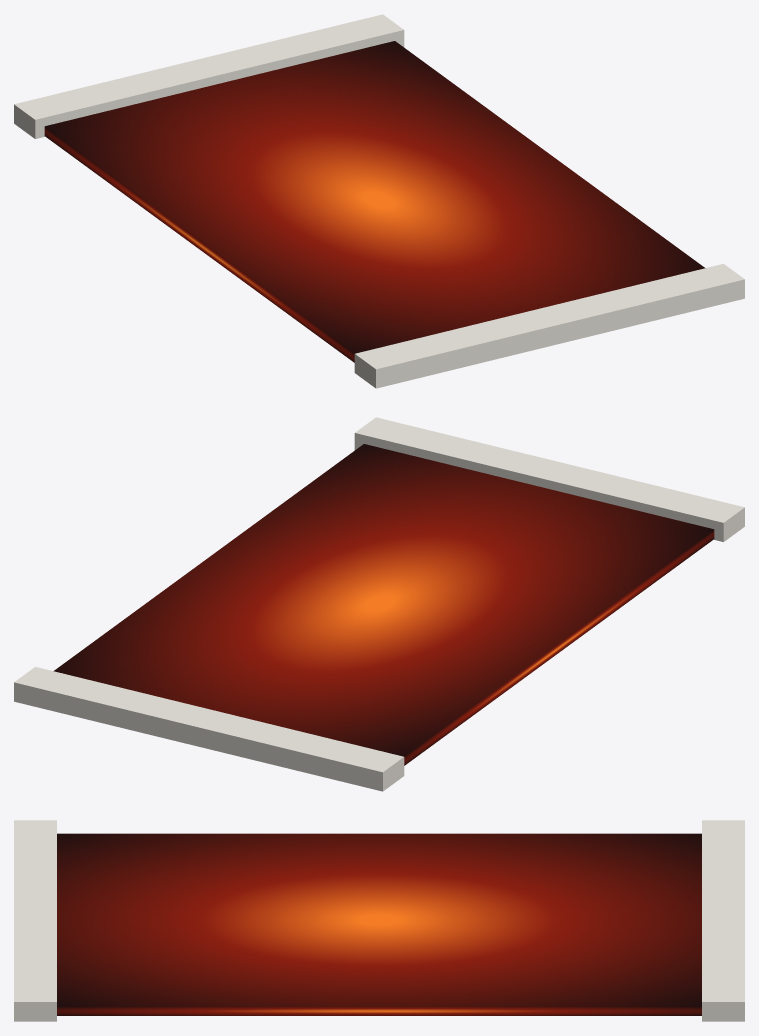
File: gap.glb
The picture shows the model from 3 angles, top to bottom: view 1: azimuth 30°, elevation 25°; view 2: azimuth 150°, elevation 25°; view 3: azimuth 270°, elevation 25°; orthographic projection.
Visible parts, largest first — view 1: stairway gap; view 2: stairway gap; view 3: stairway gap.
Boxes of the visible parts, x1=… form: stairway gap: x1=14, y1=14, x2=744, y2=388; stairway gap: x1=14, y1=417, x2=744, y2=791; stairway gap: x1=14, y1=820, x2=744, y2=1021.
Size of the model in its own units: 2 by 0.1 by 3.4.
Materials: 2 (1 with a texture image).
